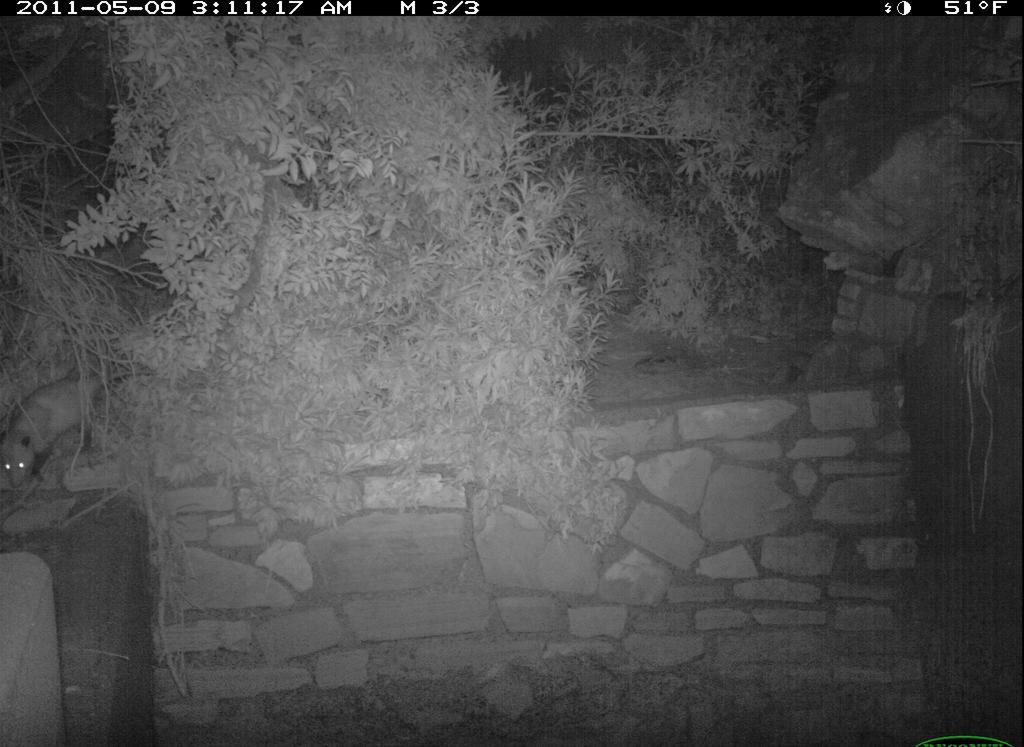opossum: (3, 363, 154, 492)
